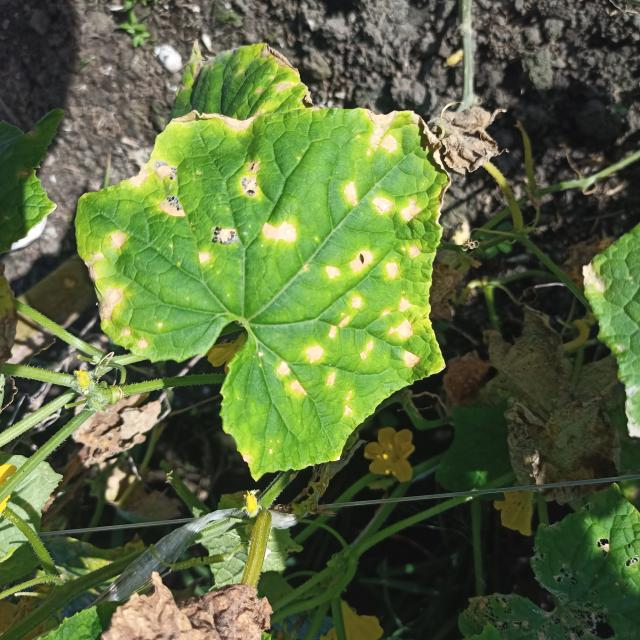disease_cucumber: (88, 111, 437, 417)
